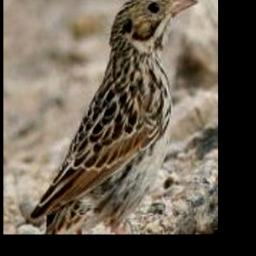Sparrow: (21, 0, 200, 230)
